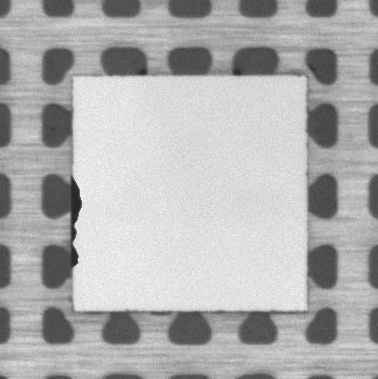DIE_BROKEN: (68, 173, 84, 274)
